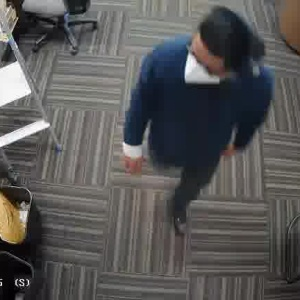person: (119, 16, 268, 221)
